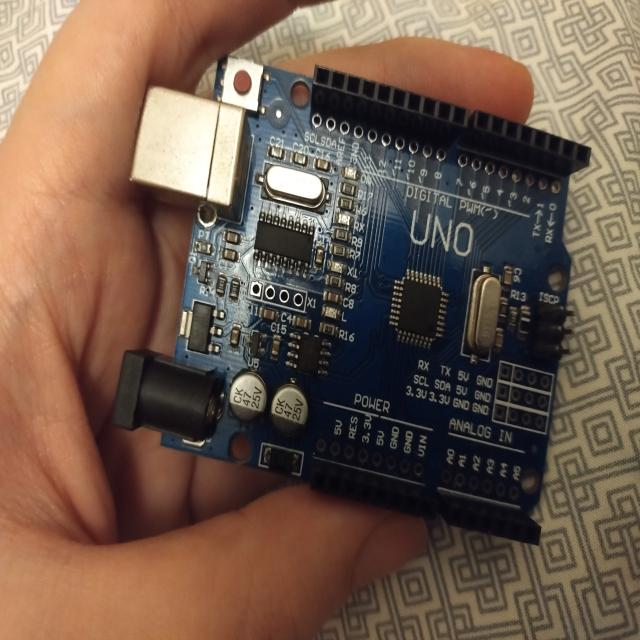arduino: (125, 37, 558, 555)
